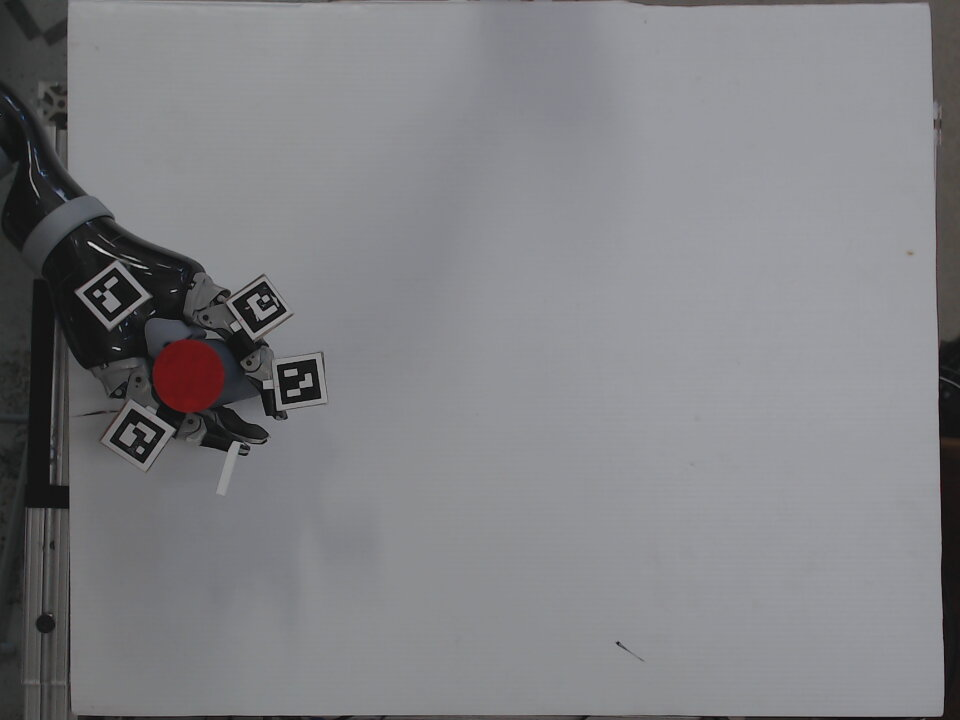cylinder: (149, 336, 266, 418)
